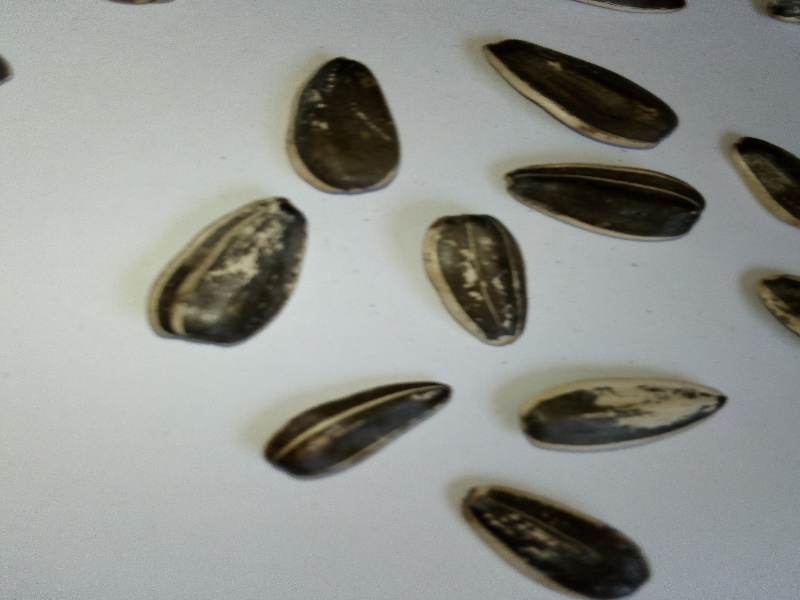w: (136, 190, 326, 350), (468, 32, 691, 157), (257, 374, 463, 485), (266, 47, 409, 197), (514, 366, 743, 458), (414, 211, 547, 353)
